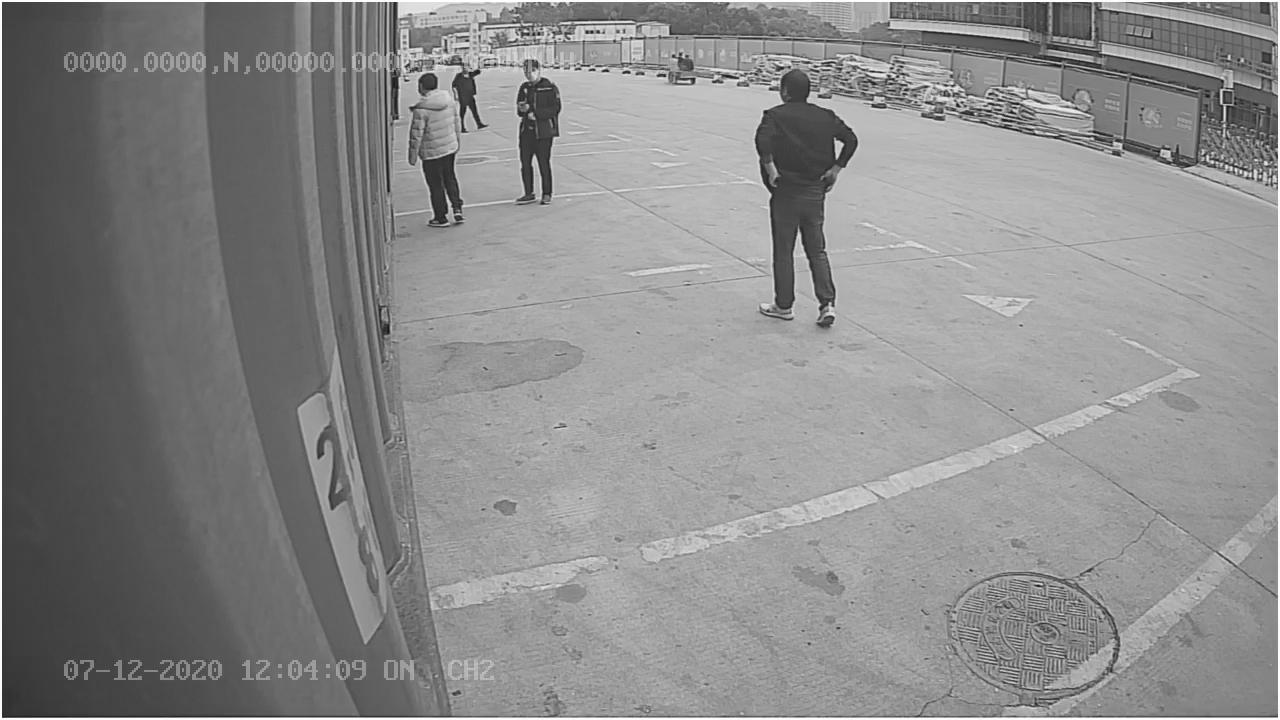person: (747, 66, 858, 331)
